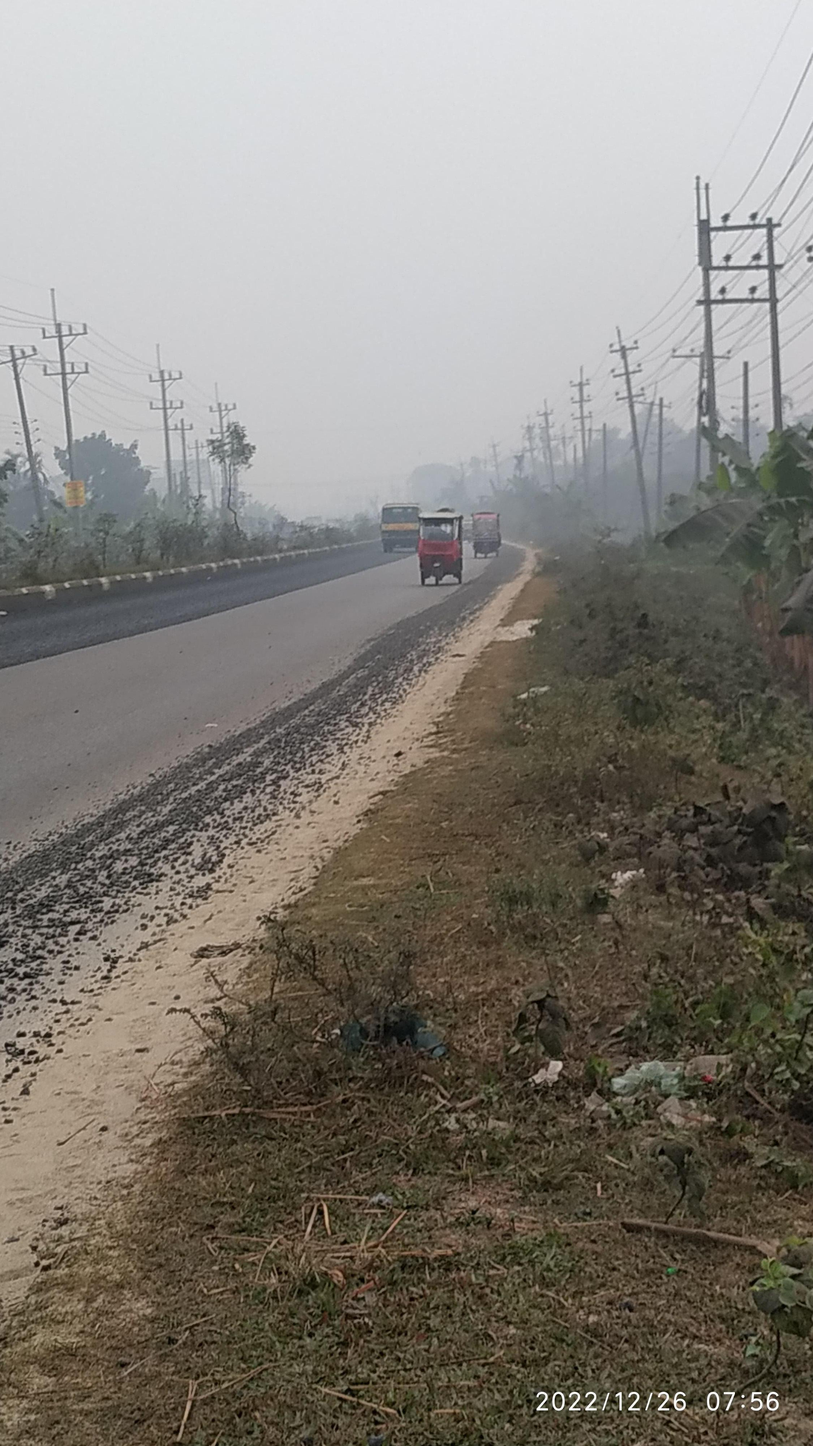Car: (403, 506, 483, 607), (468, 499, 516, 562)
Truck: (372, 491, 426, 559)
